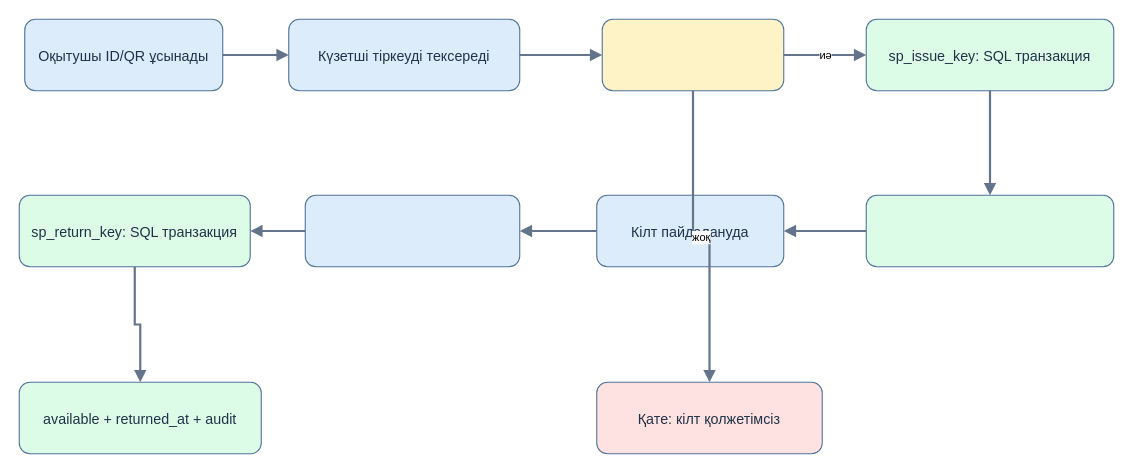
The diagram is 1133 pixels wide and 473 high, and some of its shapes have lost their labels. The centre of each missing label's shape, as x and y in pixels:
"key_issues + status + audit" goes at [989,230].
"Кілт бос па?" goes at [692,54].
"Күзетшіге қайтарылады" goes at [412,230].
